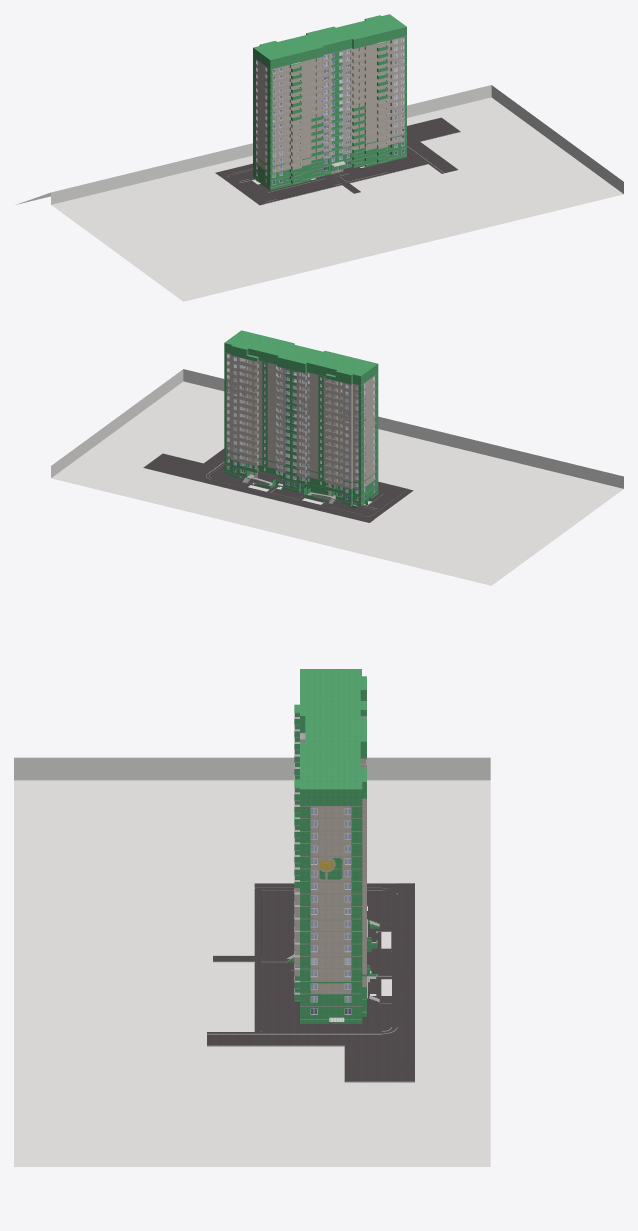
3 views of the same model, one above another, from view 1: azimuth 30°, elevation 25°; view 2: azimuth 150°, elevation 25°; view 3: azimuth 270°, elevation 25° (orthographic). The views are drawn at different scales.
Parts seen in each view (by area): view 1: Mesh1 Model; view 2: Mesh1 Model; view 3: Mesh1 Model.
Part boxes in pixels (bbox=[...]): Mesh1 Model: bbox=[16, 14, 623, 301]; Mesh1 Model: bbox=[51, 330, 623, 585]; Mesh1 Model: bbox=[14, 669, 490, 1166].
Bounding box in the file's own units: 185 × 68.6 × 124.
14 materials, 10 textured.
